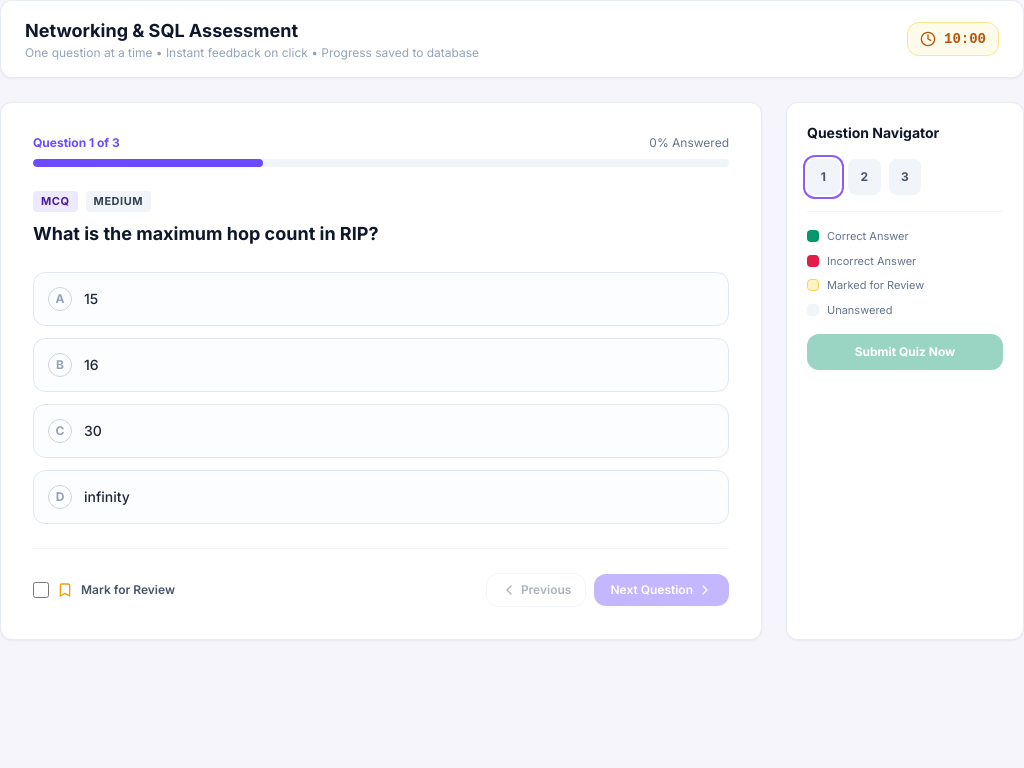
Quiz Component - Interactive One-by-One Flow › renders Fill-in-the-blank with text input and Check Answer button
Check: the text "Question 1 of 3" is shown, box [33,135,120,151]
Jump to Question 3
Click the button titled "Question 3: SQL Security" at (905, 177), box [889,159,921,195]
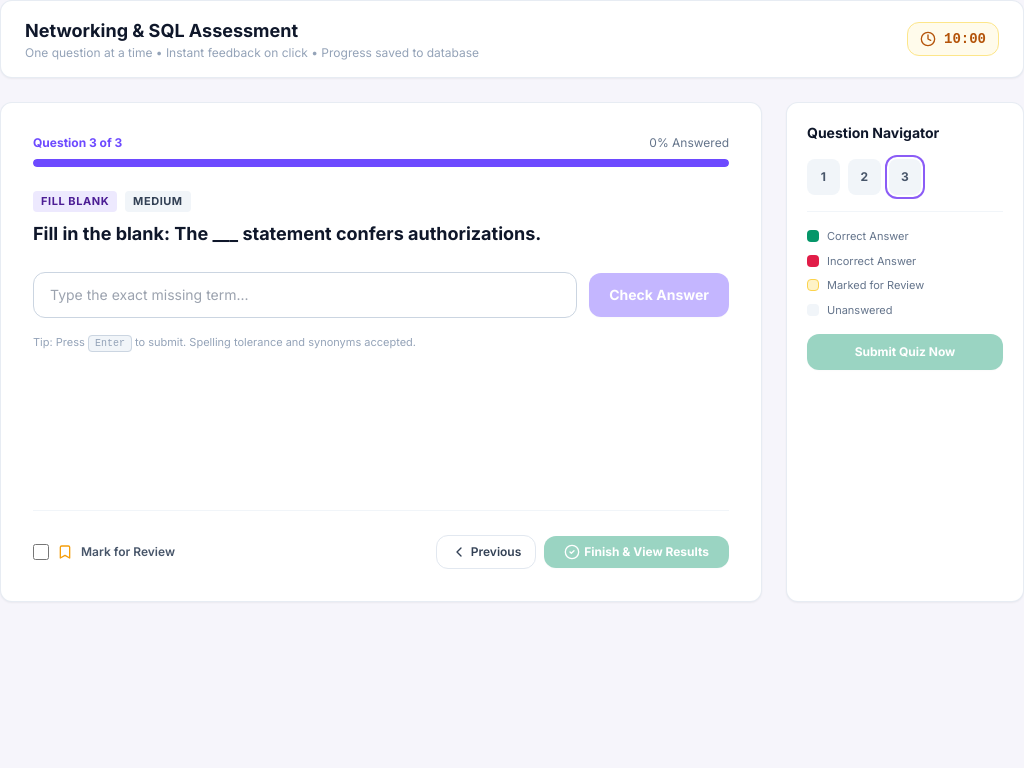
Check: the text "Question 3 of 3" is shown, box [33,135,122,151]
Check: the field with placeholder "Type the exact missing term..." is shown
Type "grant" into the field with placeholder "Type the exact missing term..." at (305, 294), box [33,272,577,318]
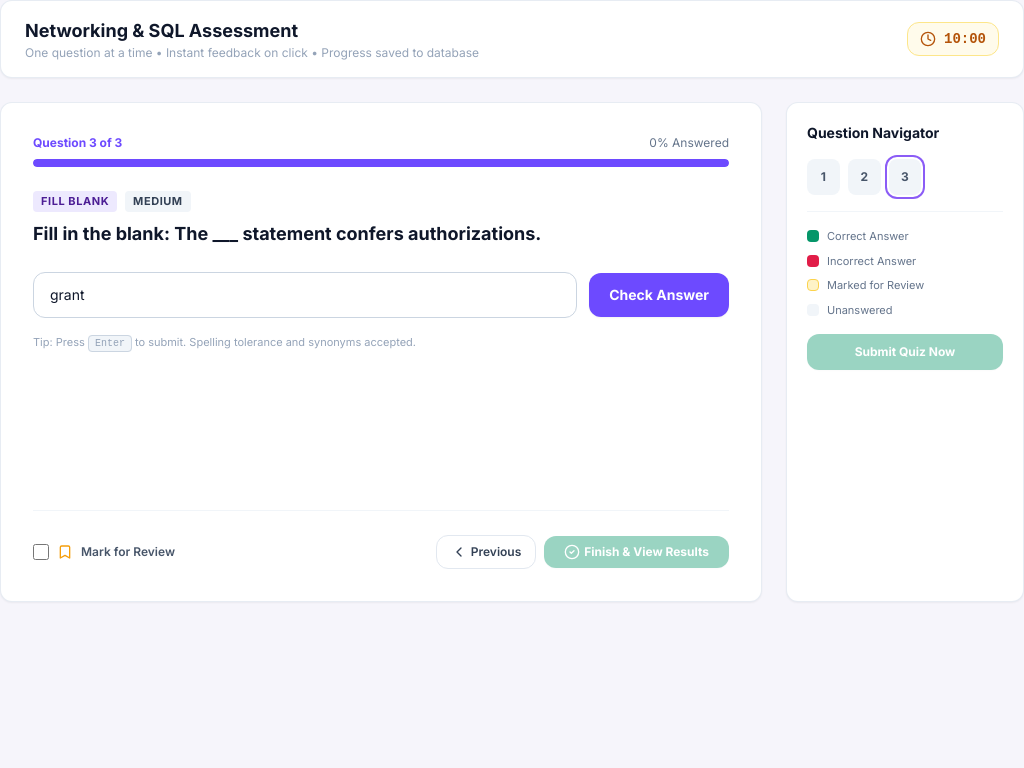
Click the button "Check Answer" at (659, 294), box [589,272,729,316]
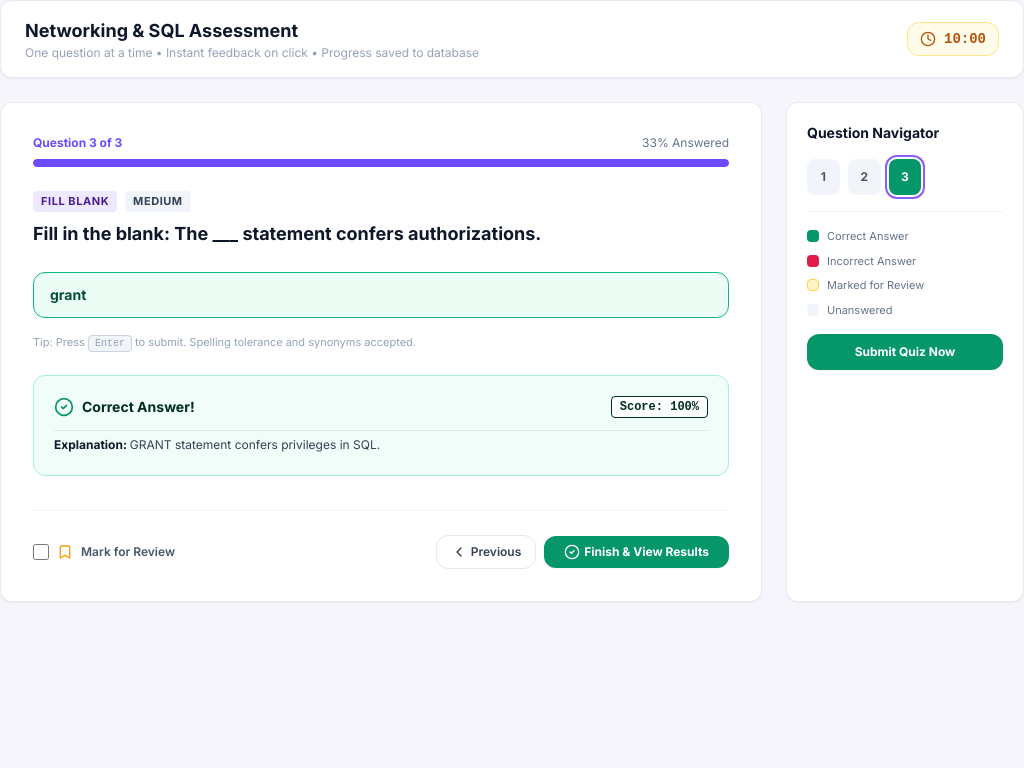
Check: the text "Explanation: GRANT statement confers privileges in SQL." is shown, box [54,430,708,455]
